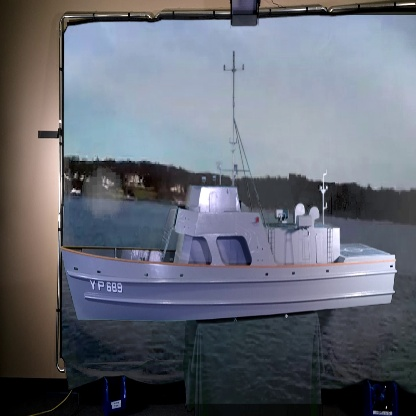YP689: (62, 43, 395, 322)
